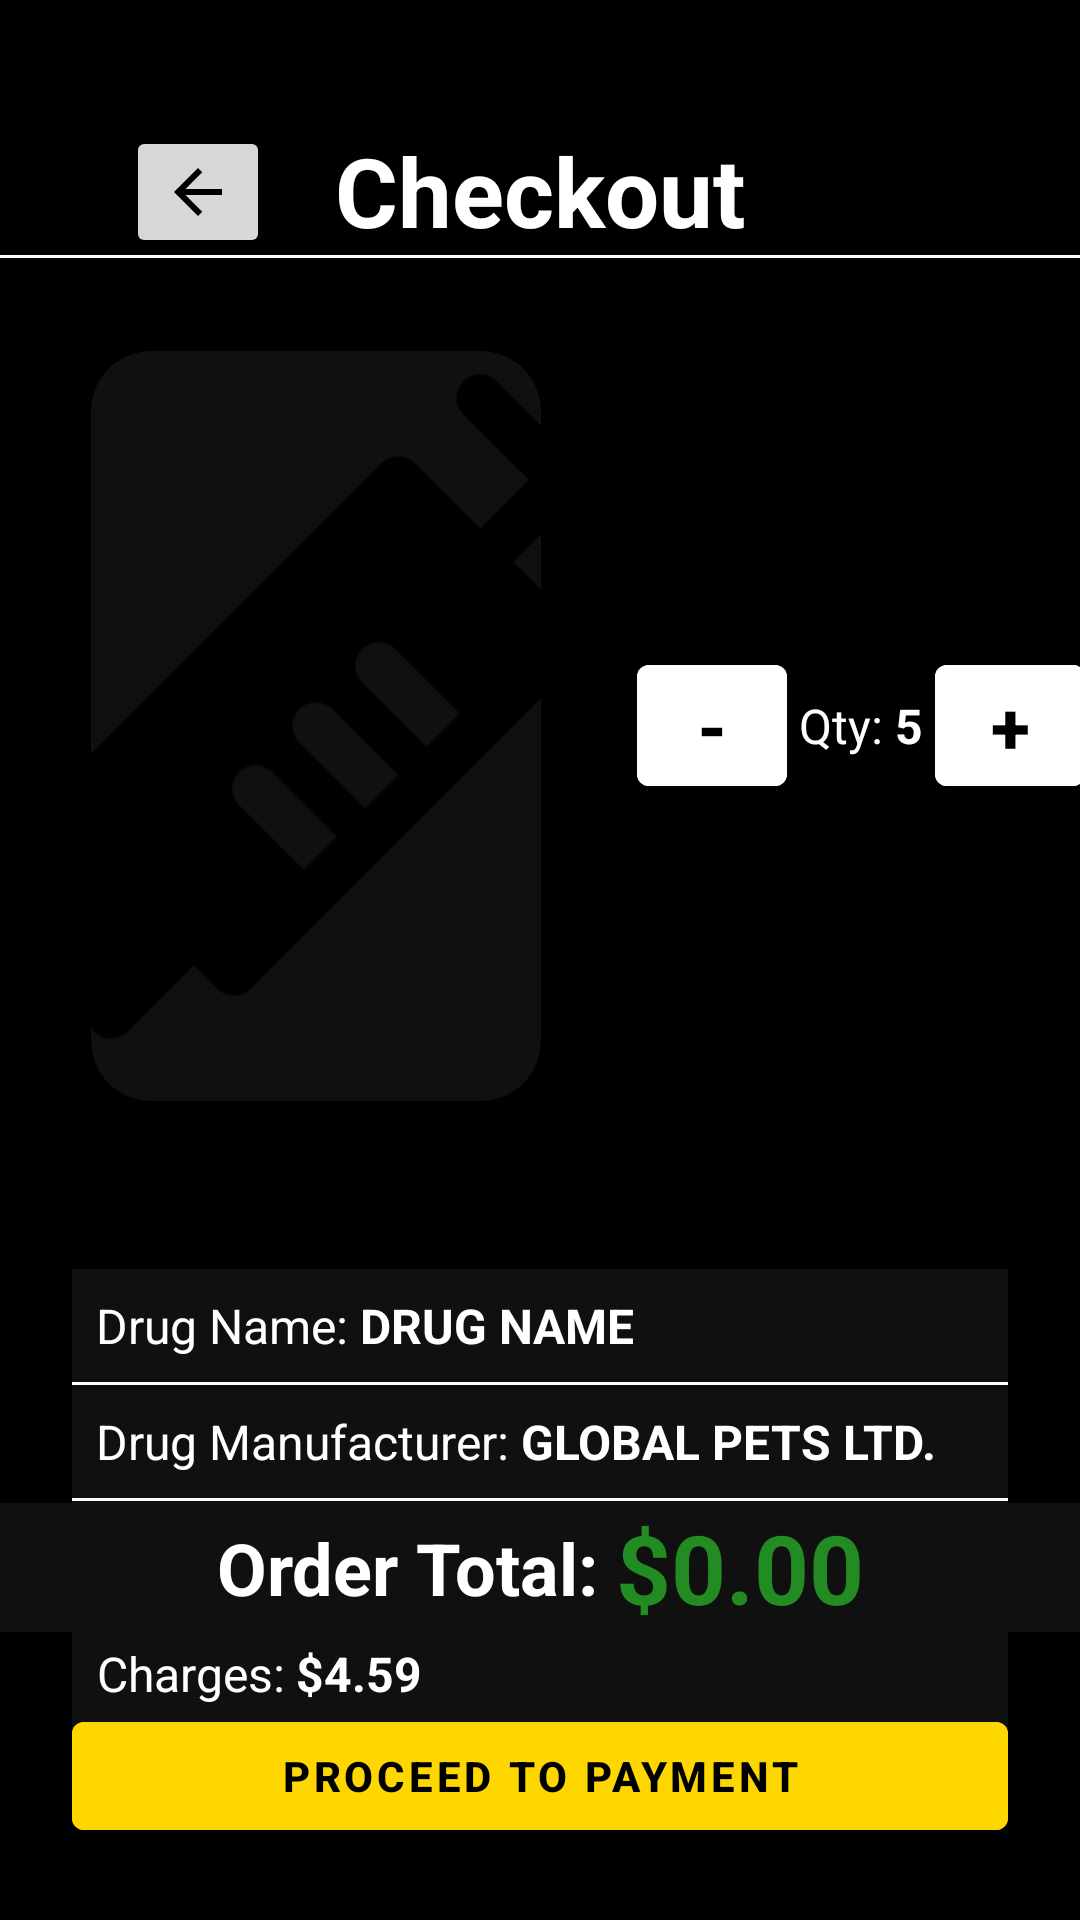

Icon bounding boxes for this 1080px×1920px phone screenshot, format (x1, y1, x2, y2):
backarrow: (138, 144, 258, 240)
